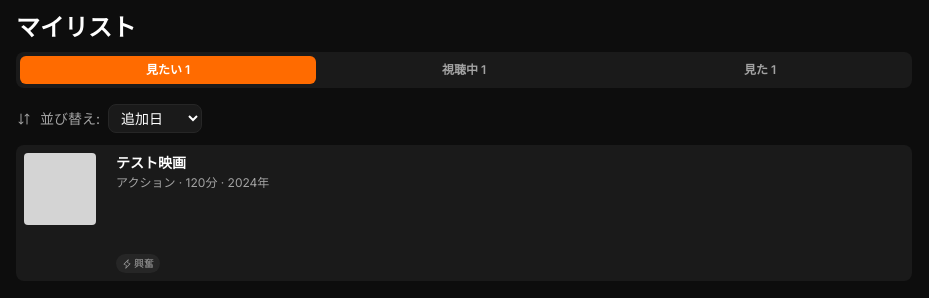
Test: ListPage — 並び替え › 「見た」タブのデフォルトソートは「視聴日」
Click the tab "見た 1" at (760, 70), box [612,56,908,84]
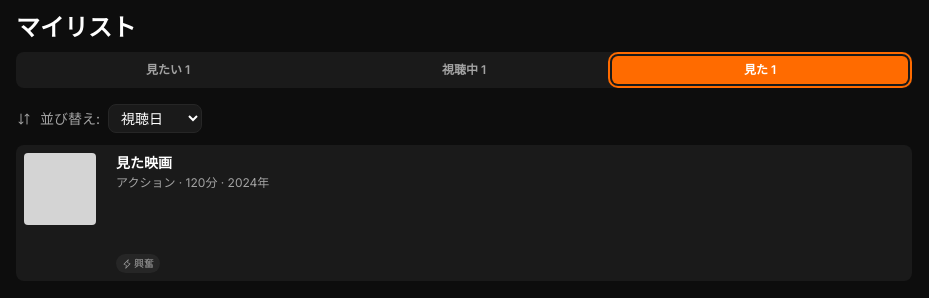
Expected: the dropdown showing "視聴日" is shown, [108,104,202,133]
